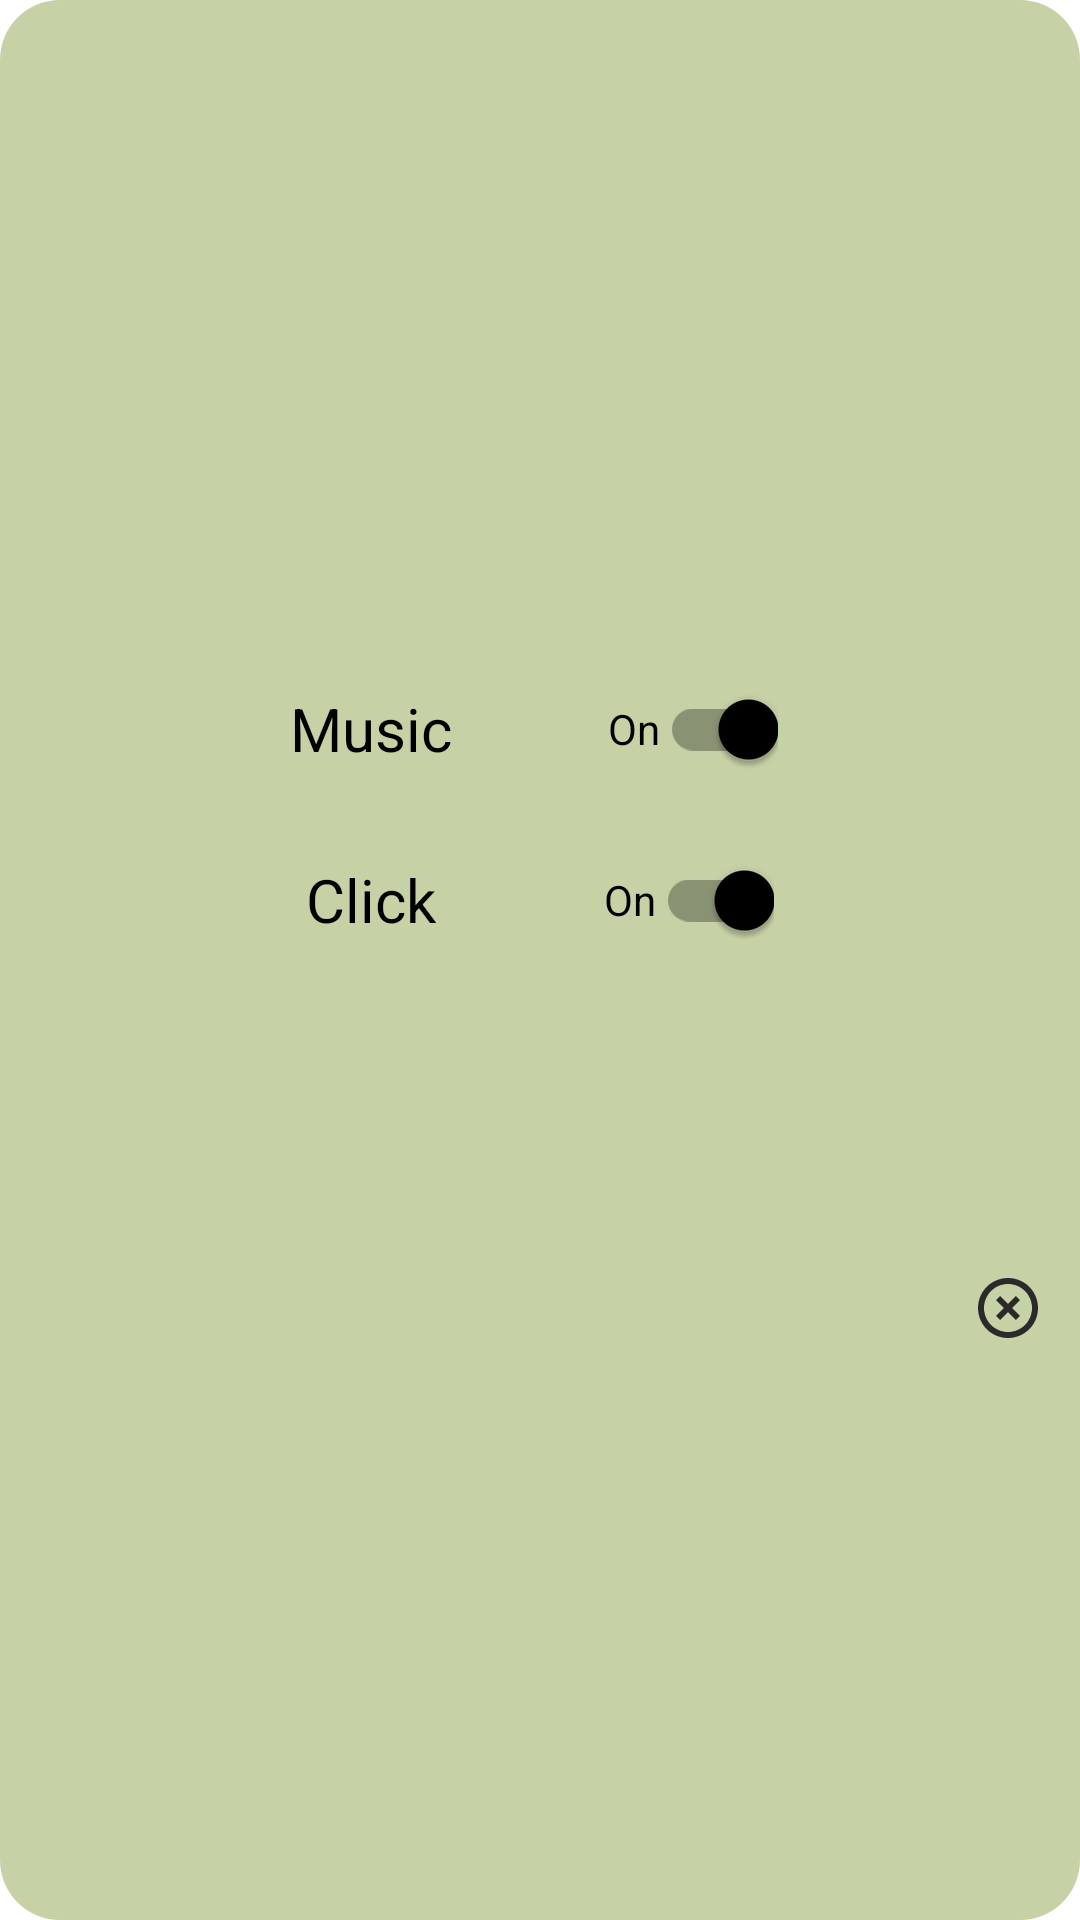

Icons on this 1080 x 1920 Android screen, each with its box as (x1, y1, x2, y2):
close window: (978, 1278, 1038, 1338)
